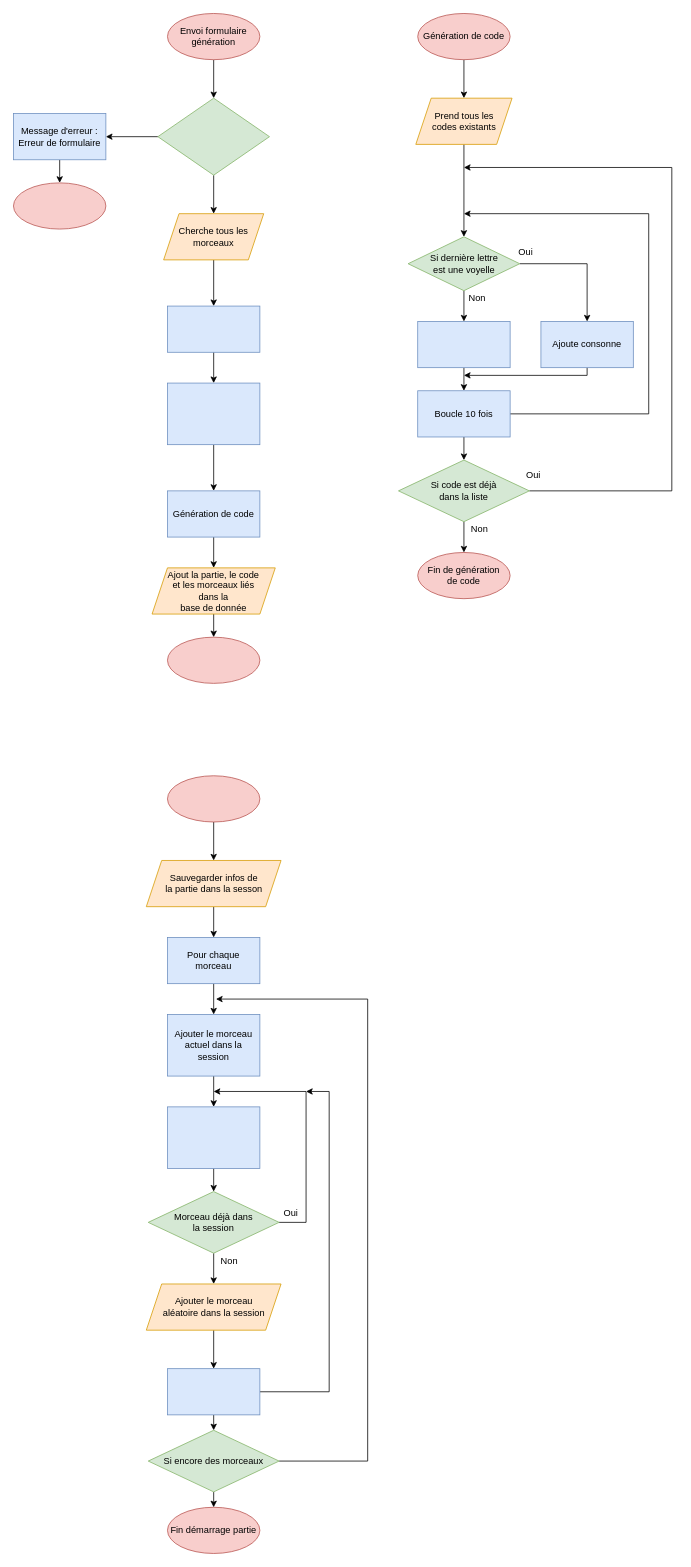
The diagram is 691 pixels wide and 1567 high, and some of its shapes have lost their labels. Each missing label, with the centre of its shape:
"Ajoute voyelle" goes at [463,344].
"Boucle 5 fois" goes at [213,1391].
"Démarrage partie" goes at [213,798].
"Filtre des morceaux en fonction de la difficulté et du type" goes at [213,328].
"Fin génération partie" goes at [213,659].
"Mélange des morceaux et récupération des X (10 ou 20) premiers de la liste" goes at [213,413].
"Page génération" goes at [59,205].
"Prendre un morceau aléatoire" goes at [213,1137].
"Vérification que les données existent" goes at [213,136].
